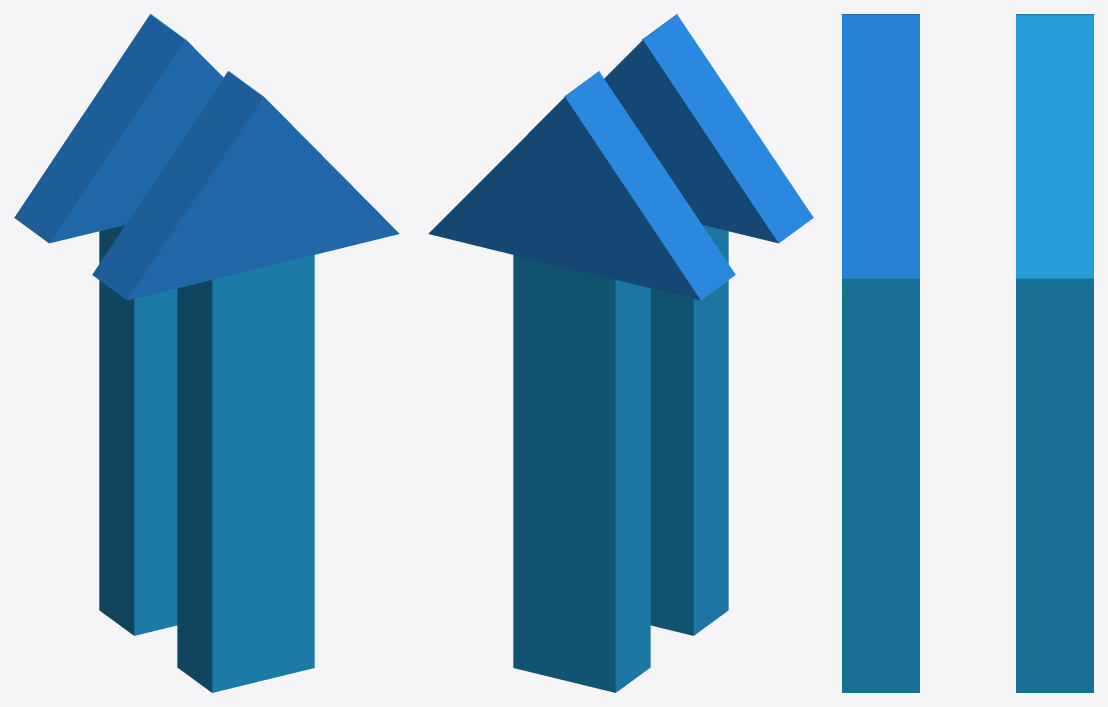
Rendered from JumpBoostPowerUp.fbx.
The picture shows the model from 3 angles, left to right: view 1: azimuth 30°, elevation 25°; view 2: azimuth 150°, elevation 25°; view 3: azimuth 270°, elevation 25°; orthographic projection. The views are drawn at different scales.
Visible parts, largest first — view 1: Cube; view 2: Cube; view 3: Cube.
Part boxes in pixels (x1,y1,x2,y2): Cube: (14,14,399,692); Cube: (428,14,813,692); Cube: (842,14,1093,692).
Bounding box in the file's own units: 1.38 × 2.83 × 0.9908.
